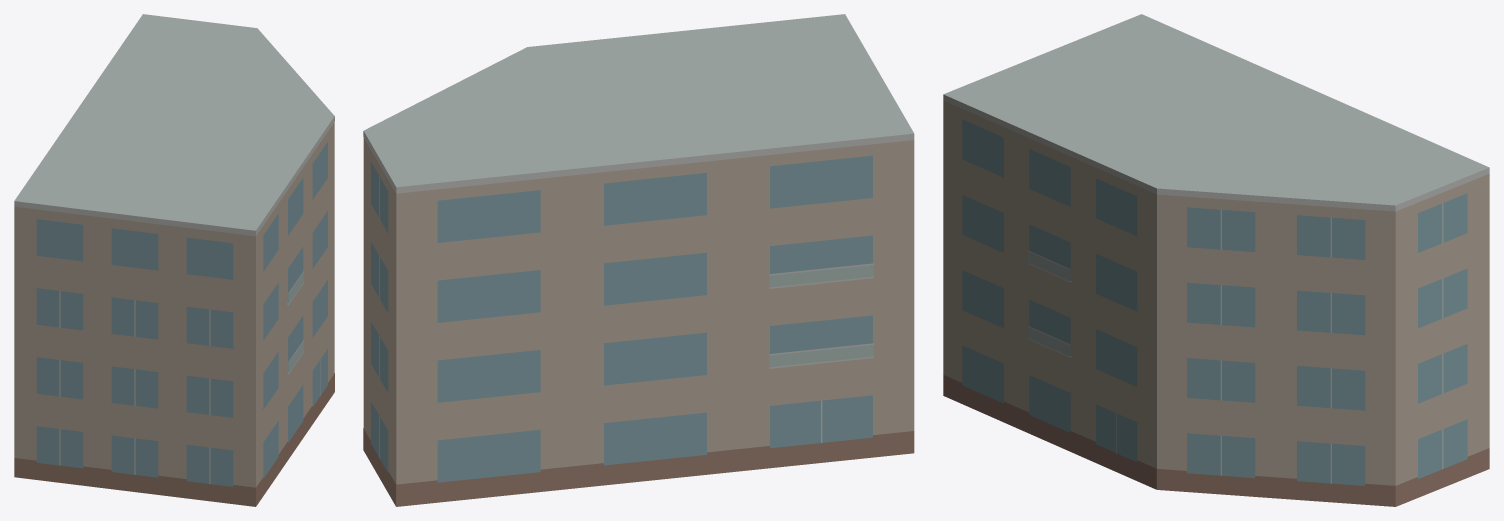
Rendered from residential-1a11d55e-2777-45bb-b312-ff97d2cf1676.glb.
3 views of the same model, side by side, from view 1: azimuth 30°, elevation 25°; view 2: azimuth 150°, elevation 25°; view 3: azimuth 270°, elevation 25° (orthographic). The views are drawn at different scales.
Visible parts, largest first — view 1: residential-1a11d55e-2777-45bb-b312-ff97d2cf1676.tmp; view 2: residential-1a11d55e-2777-45bb-b312-ff97d2cf1676.tmp; view 3: residential-1a11d55e-2777-45bb-b312-ff97d2cf1676.tmp.
Boxes of the visible parts, <box> form: residential-1a11d55e-2777-45bb-b312-ff97d2cf1676.tmp: <box>14,14,334,506</box>; residential-1a11d55e-2777-45bb-b312-ff97d2cf1676.tmp: <box>363,14,914,506</box>; residential-1a11d55e-2777-45bb-b312-ff97d2cf1676.tmp: <box>943,14,1489,506</box>.
Bounding box in the file's own units: 16.64 × 12.2 × 20.06.
